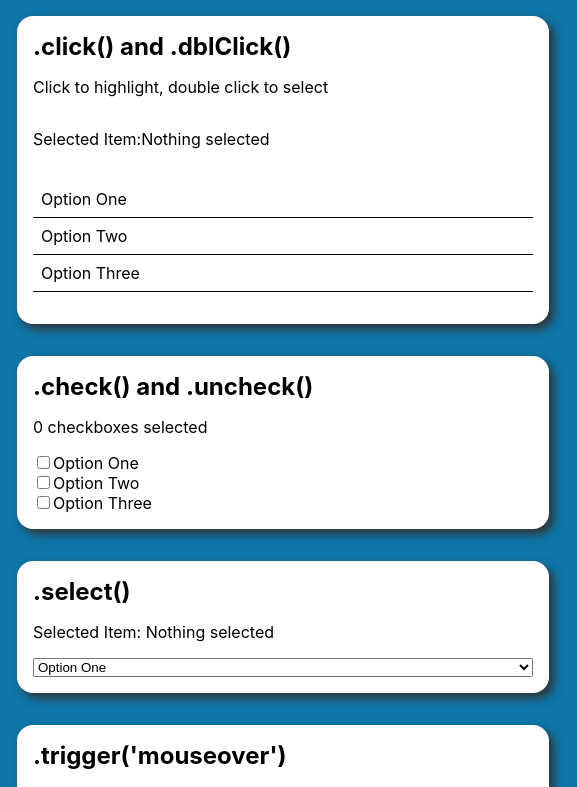
Test: basic page interactions › displays correct count of seletec textboxes
The width and height of the screenshot is (577, 787).
Check the checkbox labelled "Option One": (44, 463) [37, 456, 50, 469]
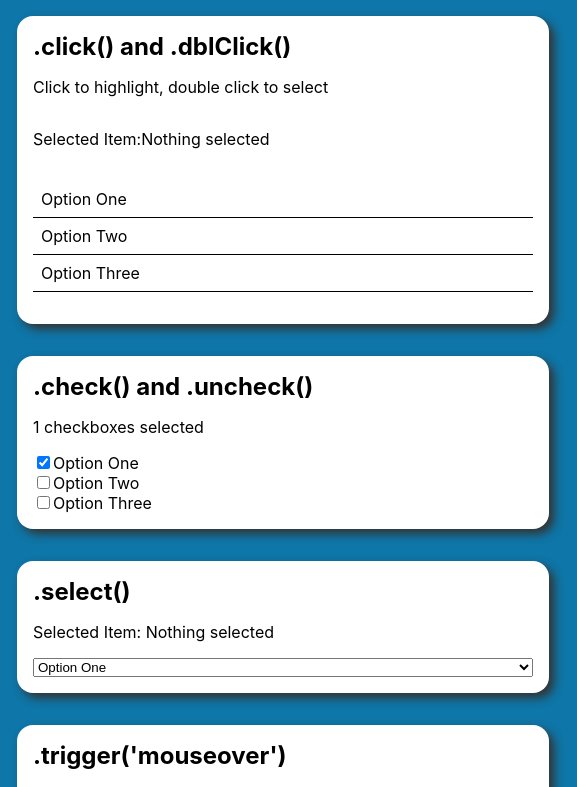
Expected: the text with test id "box-2-selected-count" reads "1", [33, 417, 40, 437]
Check the checkbox labelled "Option Three": (44, 503) [37, 496, 50, 509]
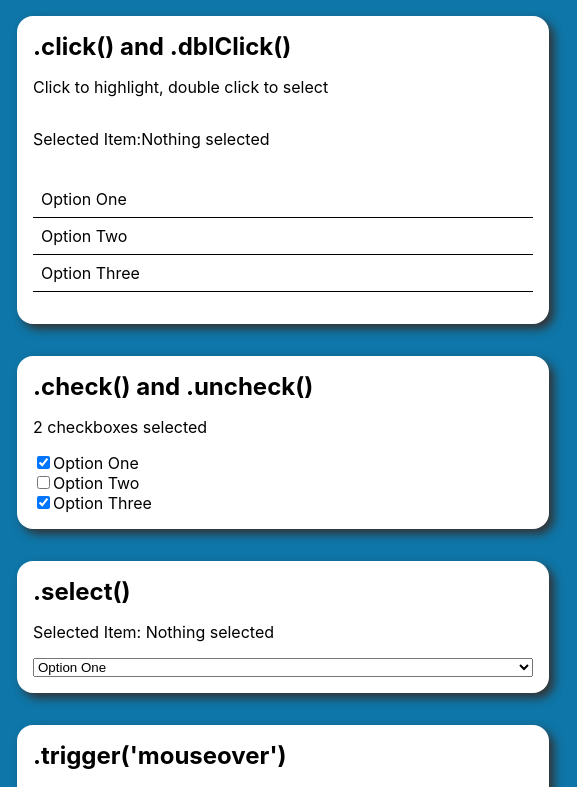
Expected: the text with test id "box-2-selected-count" reads "2", [33, 417, 43, 437]
